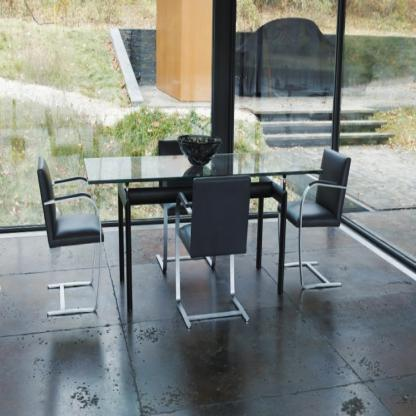chair: (32, 154, 109, 331), (175, 160, 256, 325), (280, 149, 354, 304), (154, 132, 217, 279)
table: (85, 150, 324, 319)
